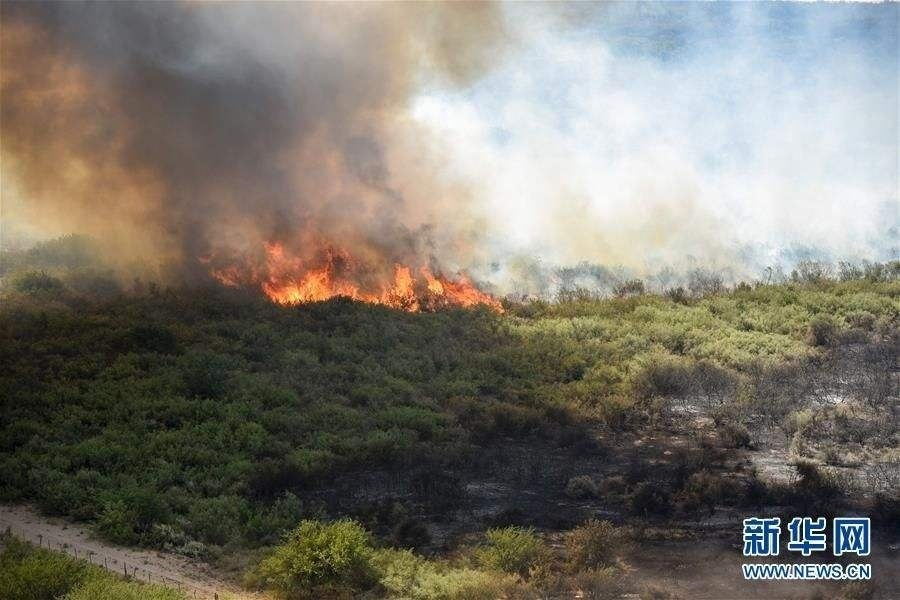fire: (218, 230, 512, 315)
